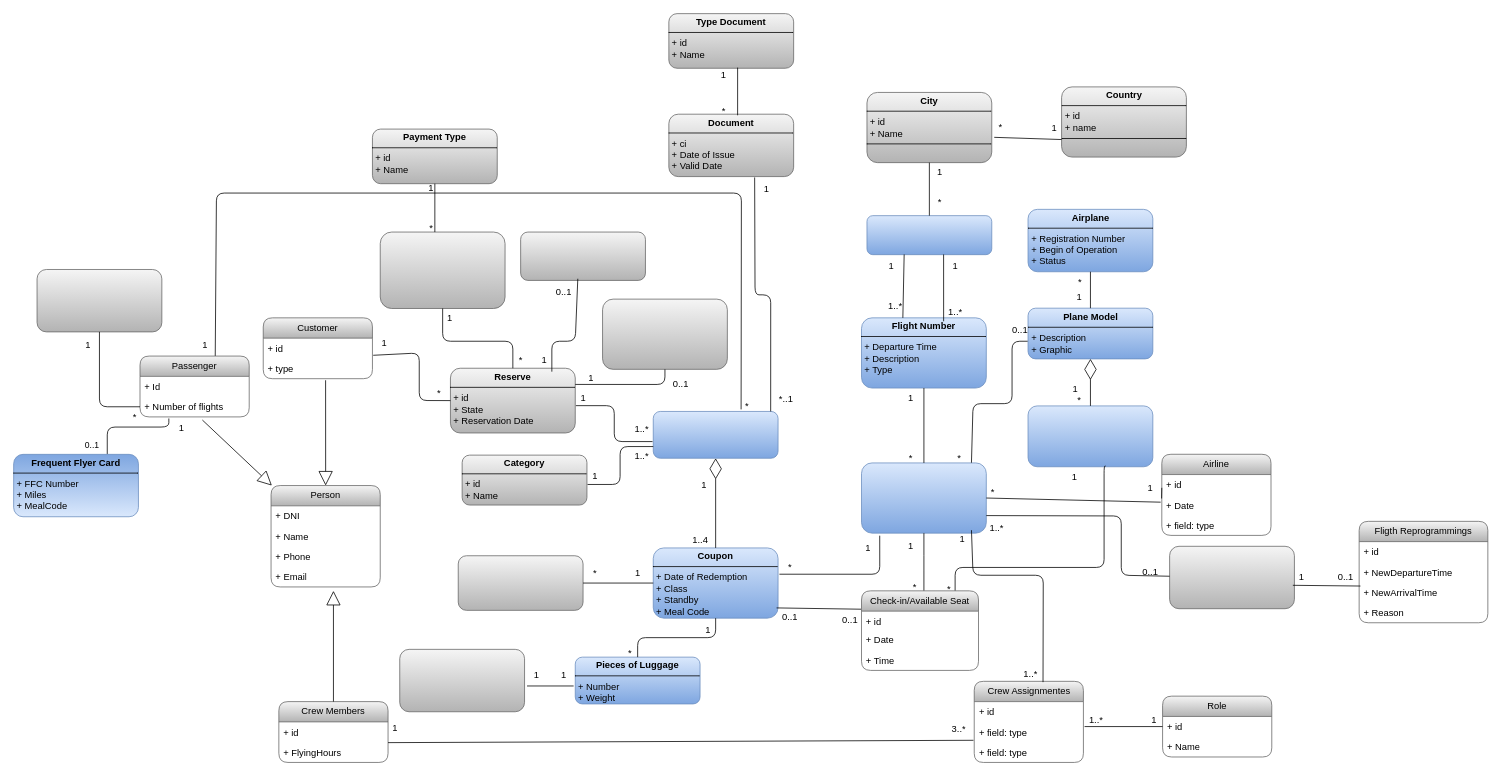
Image size: 1502x778. Some labels were removed from this diagram. The centre of each missing label's shape, as x and y in pixels:
"Airport + Name" belongs at pixel 929 235.
"Baggege Check-in + Id + Prohibited Items + Weigth" belongs at pixel 462 680.
"Boarding Pass + Id + Gate" belongs at pixel 520 582.
"Cancellation + id + Reason + Cancellation Date + Penalty" belongs at pixel 664 333.
"Confirmation + id + Date" belongs at pixel 582 255.
"Flight + Boarding Time + Flight Date + Gate + Check-in Counter" belongs at pixel 923 497.
"Flight Cancellation + id + Reason + Cancellation Date" belongs at pixel 1231 577.
"Passenger Type + id + Name + Description" belongs at pixel 99 300.
"Payment + id + Currency + Amount + Date" belongs at pixel 442 269.
"Seat + Size + Number + Location" belongs at pixel 1090 436.
"Ticket + Ticketing Code + Number" belongs at pixel 715 434.
